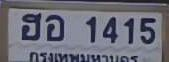1: (123, 16, 134, 44), (85, 15, 96, 43)
4: (102, 16, 118, 43)
5: (139, 17, 157, 45)
A43: (45, 13, 65, 42)
A44: (21, 12, 42, 41)
